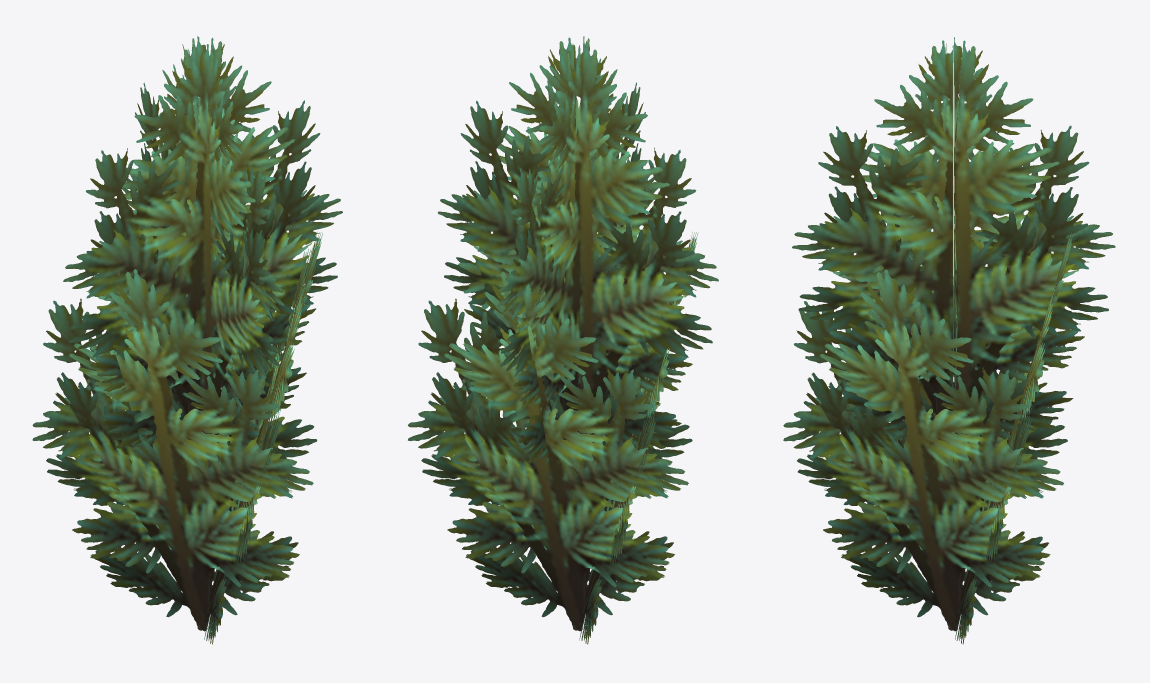
File: HP3_pineBig1.fbx
The picture shows the model from 3 angles, left to right: view 1: azimuth 30°, elevation 25°; view 2: azimuth 150°, elevation 25°; view 3: azimuth 270°, elevation 25°; orthographic projection.
Parts seen in each view (by area): view 1: HP3_pineBig1; view 2: HP3_pineBig1; view 3: HP3_pineBig1.
Part boxes in pixels (<box>): HP3_pineBig1: <box>32,36,342,644</box>; HP3_pineBig1: <box>408,36,718,644</box>; HP3_pineBig1: <box>783,37,1115,644</box>.
Bounding box in the file's own units: 7.6 × 14.32 × 7.74.
